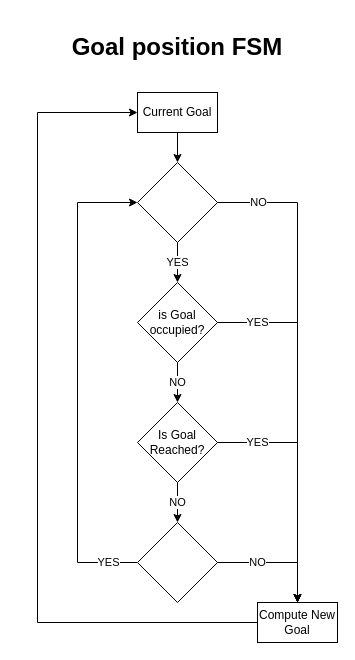
The diagram is 355 pixels wide and 660 high, and some of its shapes have lost their labels. Here are the shapes that lost their labels. From the top down, the centre of each, then its label:
(177,202): Valid Path Exists?
(177,562): is Goal a Frontier cell ?
